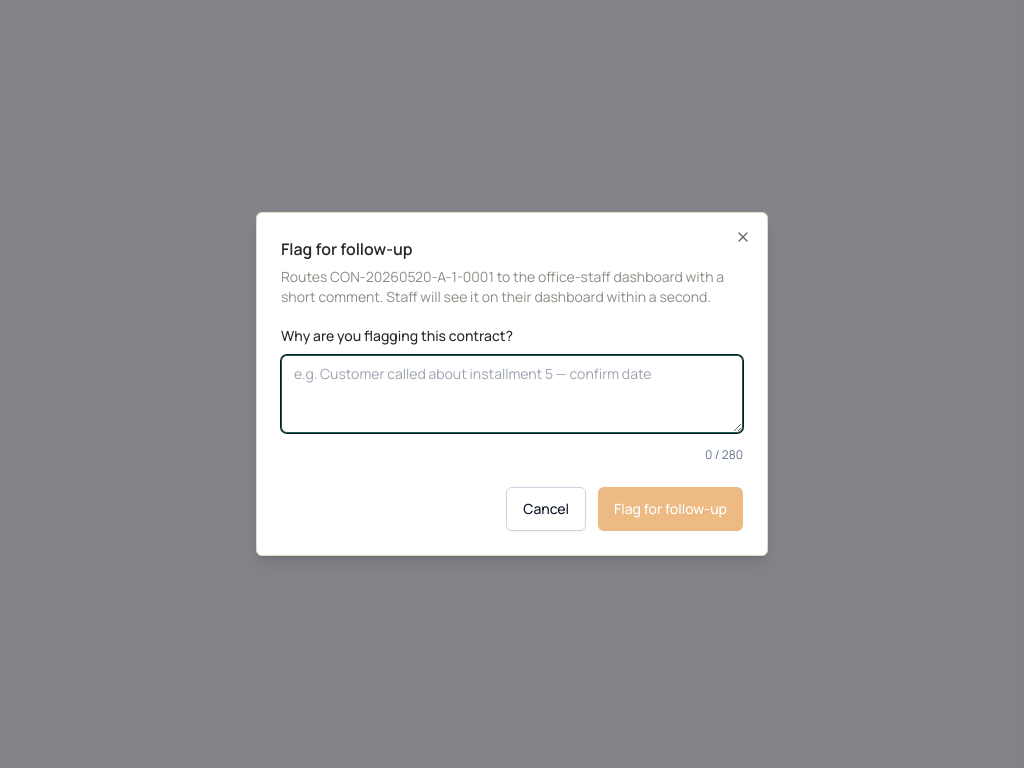
FlagContractDialog › surfaces server errors inline as role=alert without locking the submit button
Type "Routing this to staff." into the text box with test id "flag-contract-reason" at (512, 394), box [281,355,743,433]
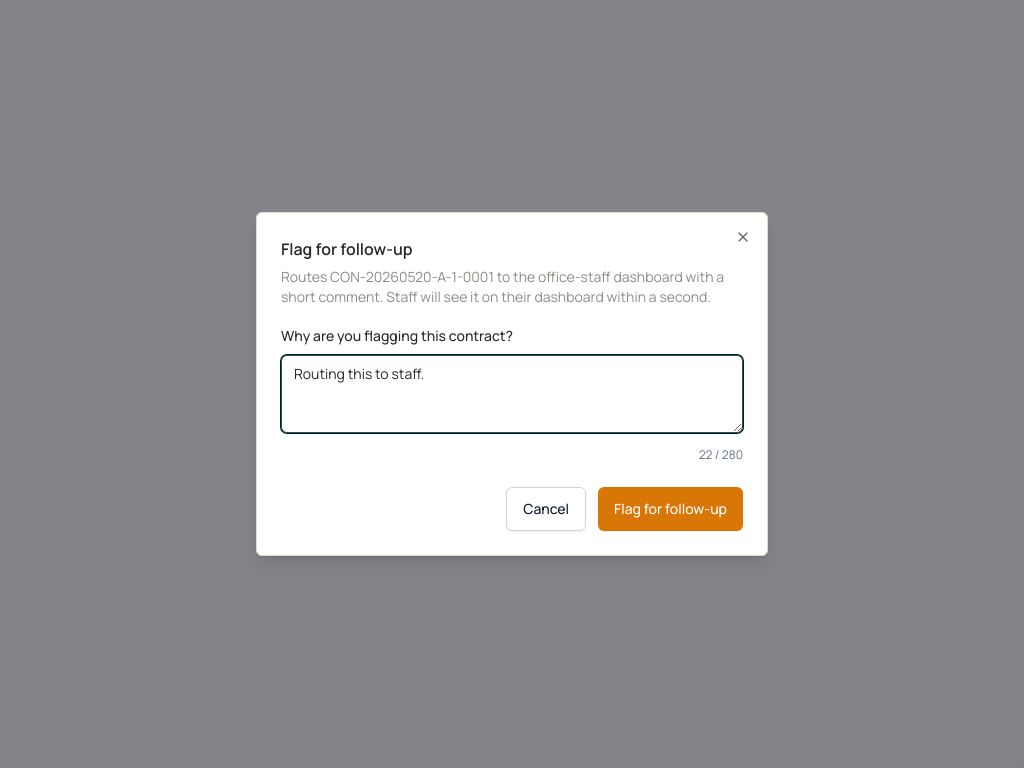
Click the button with test id "flag-contract-confirm" at (671, 509), box [598,487,743,531]
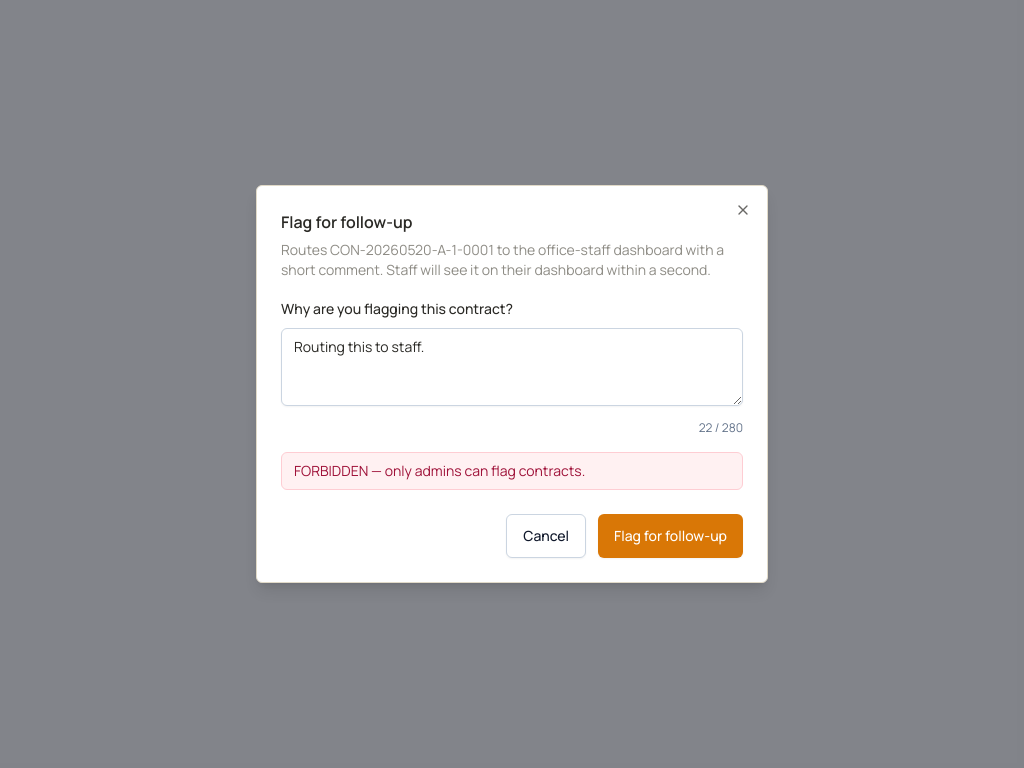
Expected: the button with test id "flag-contract-confirm" is enabled, [598,514,743,558]
Expected: the message reads "FORBIDDEN — only admins can flag contracts.", [294,461,585,480]
